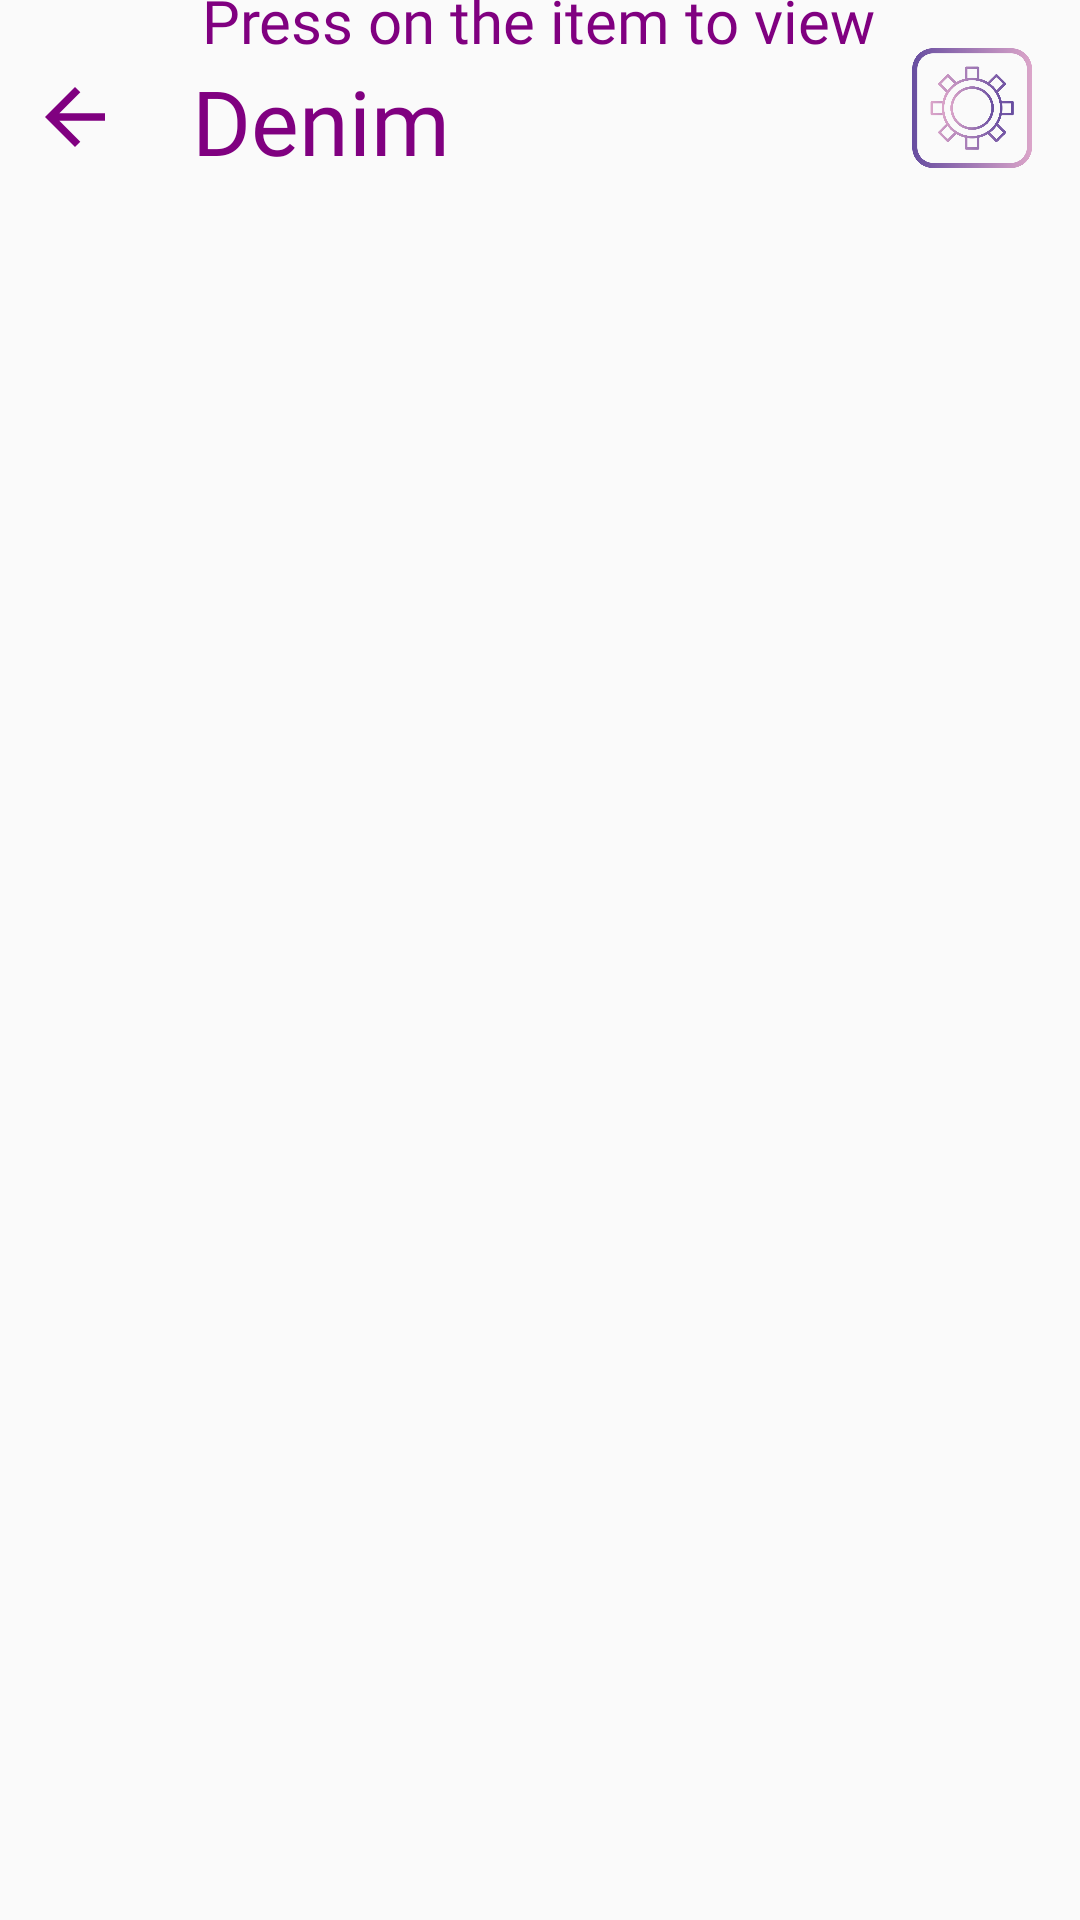

Where icons sit on this 1080 x 1920 app screen, as (x1, y1, x2, y2):
arrow back: (45, 87, 105, 147)
settings: (912, 48, 1032, 168)
